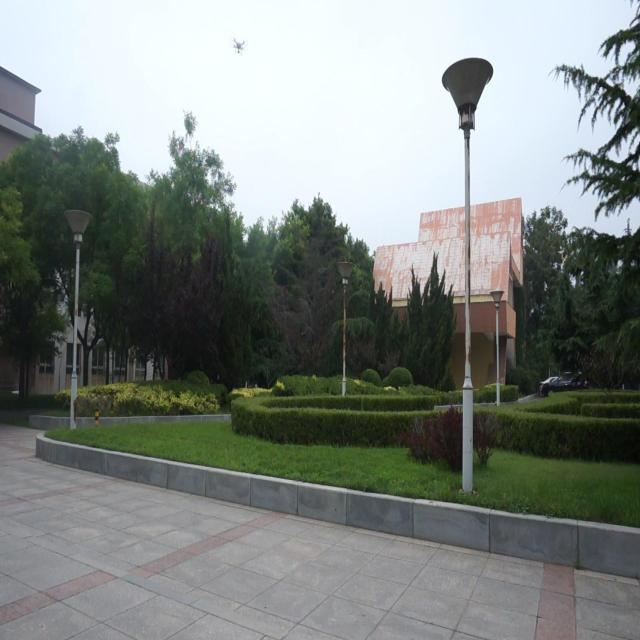drone: (230, 34, 247, 58)
